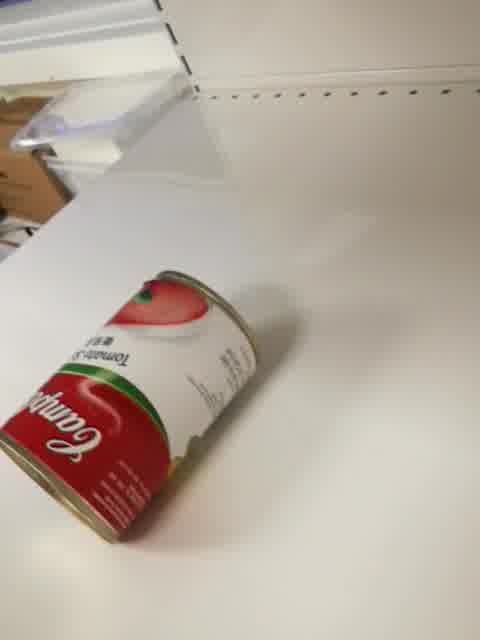tomatosoup: (1, 263, 264, 547)
